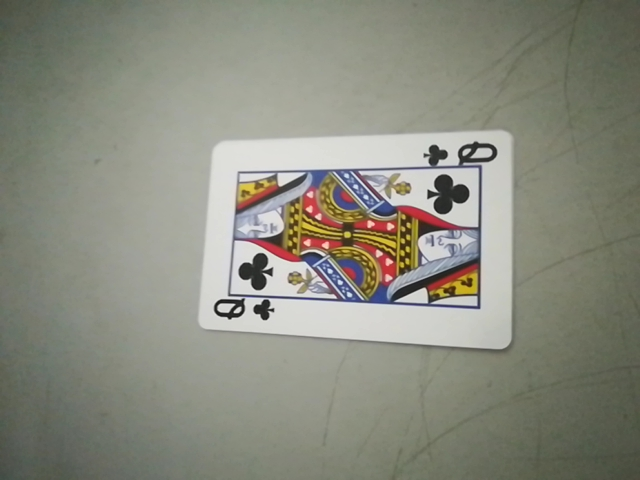mh q: (207, 293, 278, 328), (429, 138, 500, 168)
